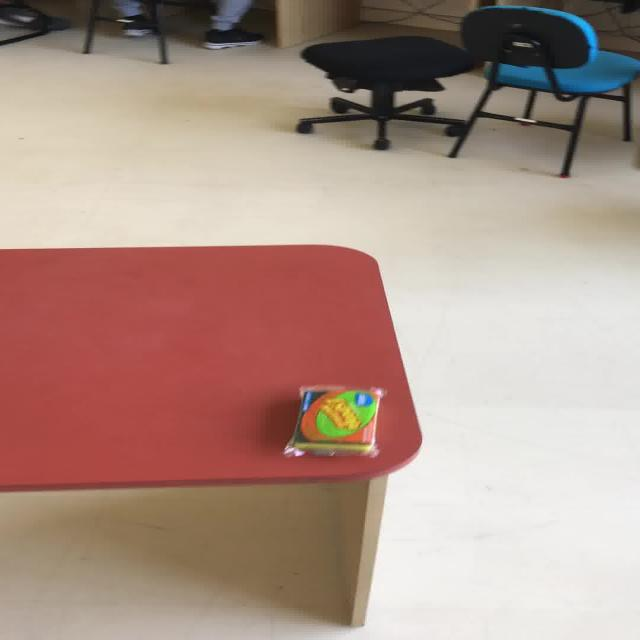sponge: (282, 384, 386, 457)
